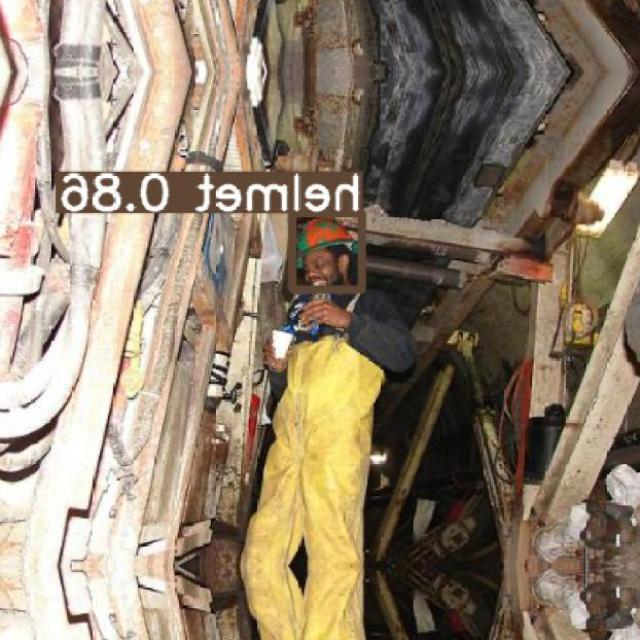helmet: (296, 217, 358, 269)
